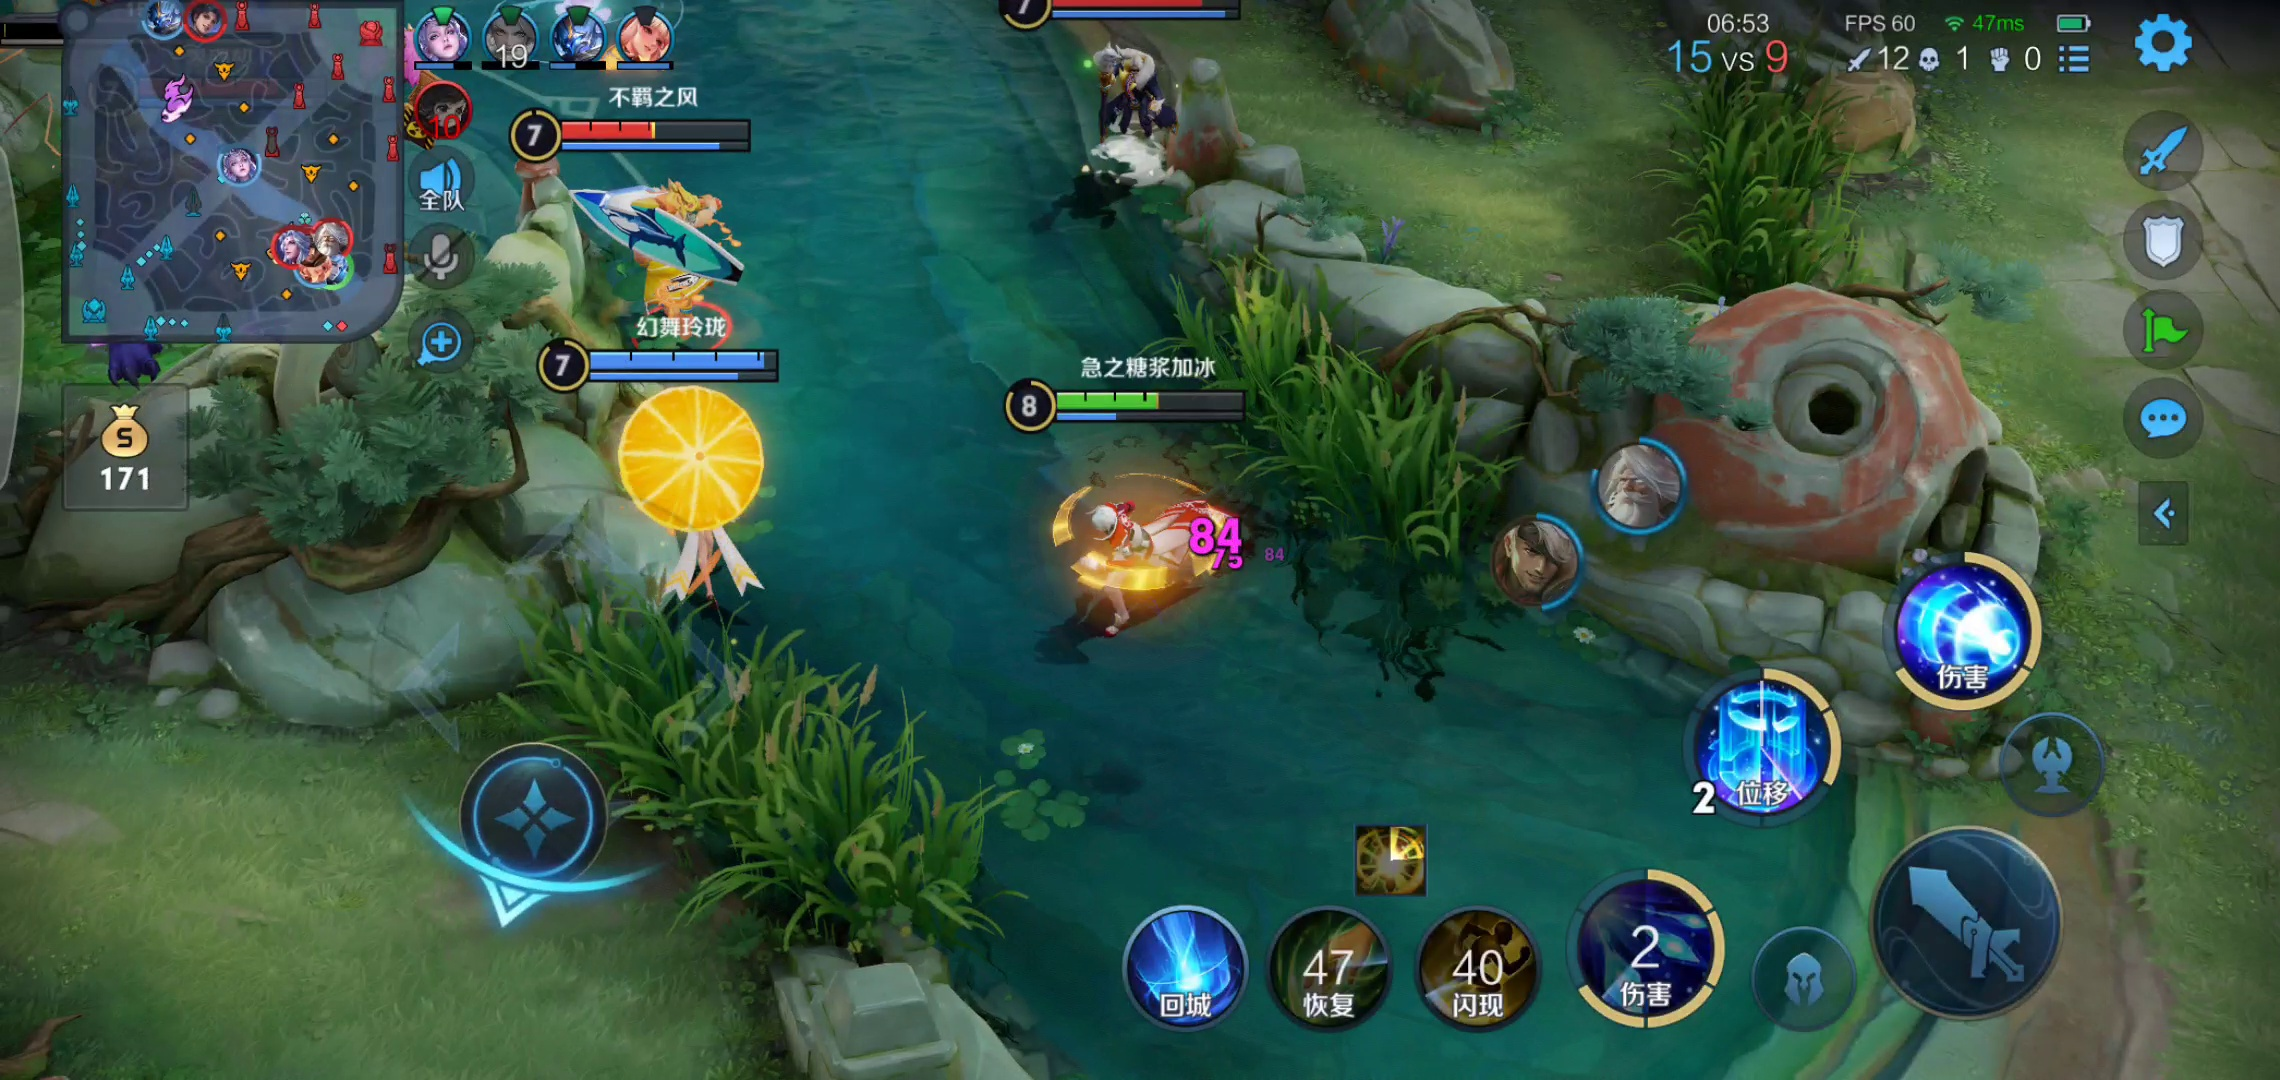grass: (484, 622, 960, 943), (1187, 299, 1565, 567), (1661, 68, 1854, 299)
hero: (580, 403, 810, 597), (569, 183, 803, 356), (1040, 448, 1217, 621), (1073, 41, 1189, 185)
